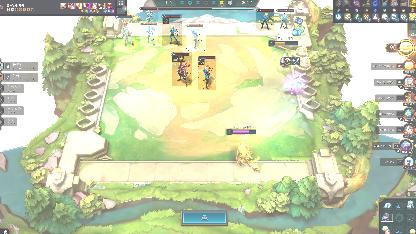1_ezreal: (256, 9, 274, 31), (278, 8, 294, 30)
1_kaisa: (140, 22, 158, 46), (138, 8, 158, 22)
1_leesin: (198, 56, 216, 90), (186, 23, 206, 51)
2_ezreal: (162, 14, 182, 46)
2_karma: (114, 16, 132, 48)
2_sett: (172, 52, 192, 86)
